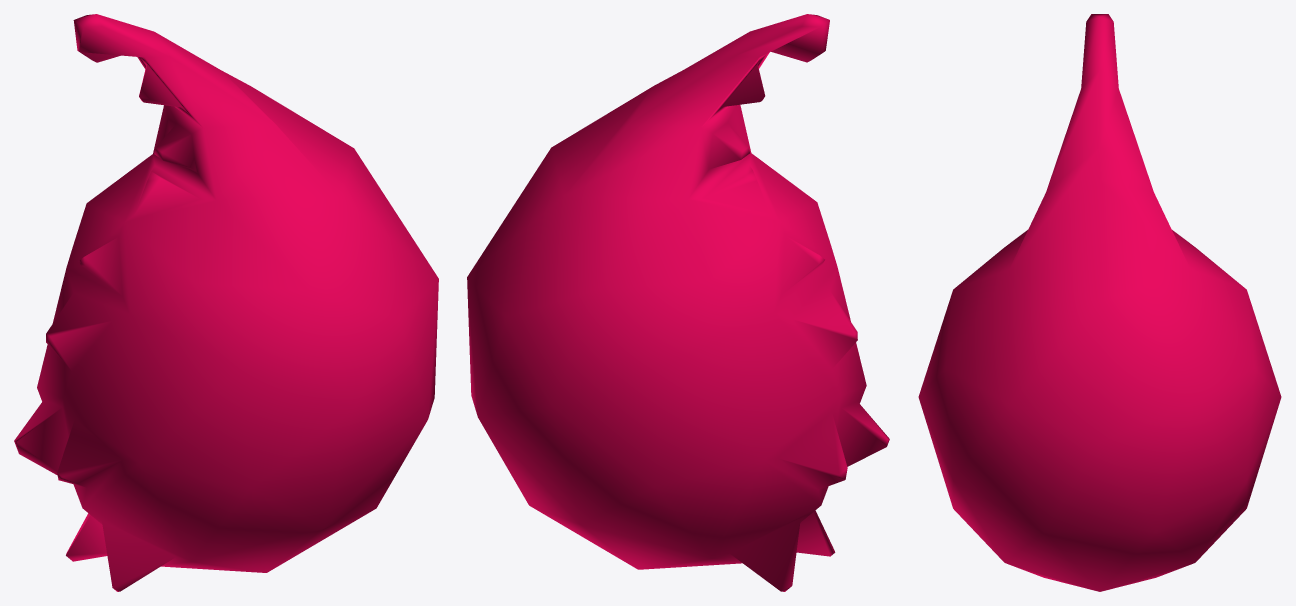
File: ItemDragonFruit.fbx
3 renders of one model, left to right at view 1: azimuth 30°, elevation 25°; view 2: azimuth 150°, elevation 25°; view 3: azimuth 270°, elevation 25°, orthographic. The views are drawn at different scales.
Parts seen in each view (by area): view 1: DragonFruit; view 2: DragonFruit; view 3: DragonFruit.
Part boxes in pixels (left/top/right/bottom): DragonFruit: left=14, top=14, right=438, bottom=591; DragonFruit: left=467, top=14, right=889, bottom=591; DragonFruit: left=918, top=14, right=1281, bottom=591.
Size of the model in its own units: 18.29 by 26.09 by 17.13.
